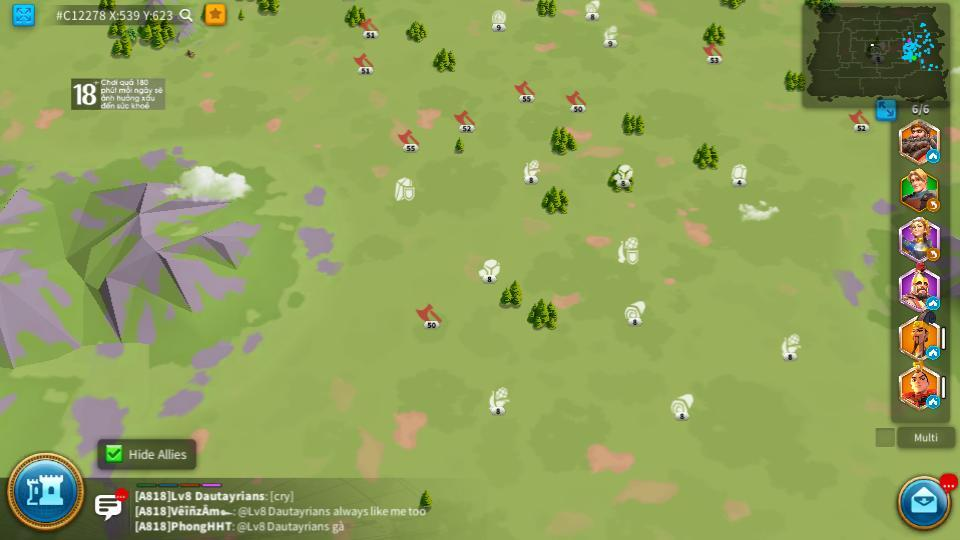gem-z-out: (729, 164, 748, 185)
march_idle: (926, 396, 941, 407), (926, 151, 940, 162), (927, 347, 940, 357), (925, 297, 938, 307)
march_returning: (926, 248, 941, 260), (927, 201, 940, 211)
